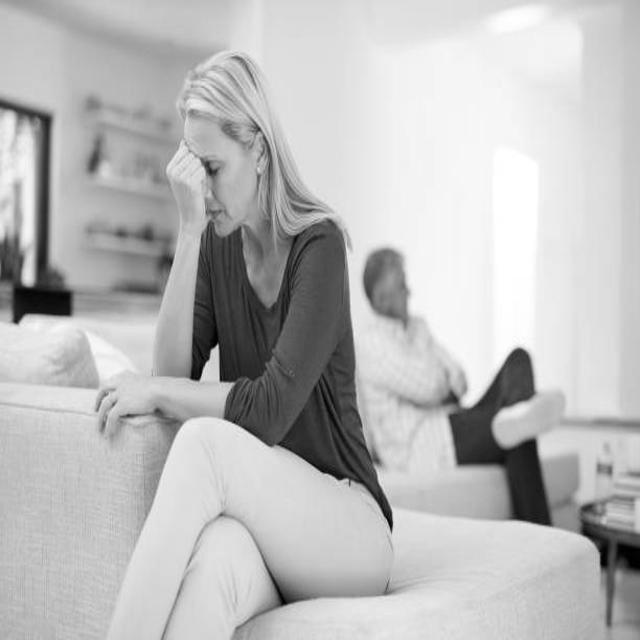Sadness: (182, 117, 258, 240)
